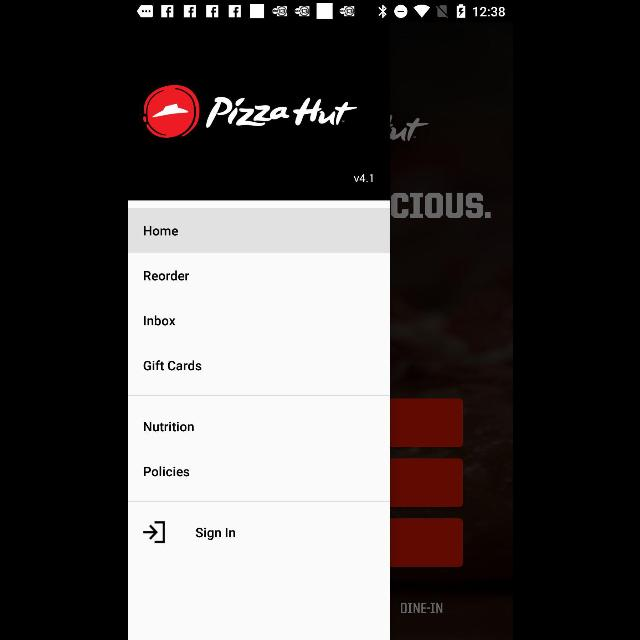icon: (142, 520, 164, 544)
image: (205, 96, 357, 130), (142, 84, 198, 138)
panel: (128, 22, 388, 640)
text: (143, 359, 201, 371), (142, 421, 194, 432), (143, 270, 189, 282), (195, 528, 235, 540), (143, 466, 190, 476), (143, 314, 175, 326), (142, 226, 178, 236), (353, 174, 372, 182)
uppertaskbar: (128, 1, 512, 23)
